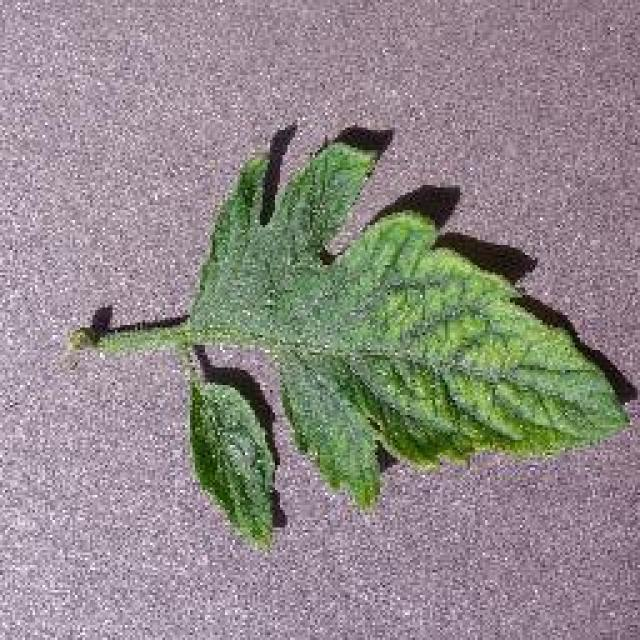Tomato spider mites leaf: (176, 135, 629, 547)
